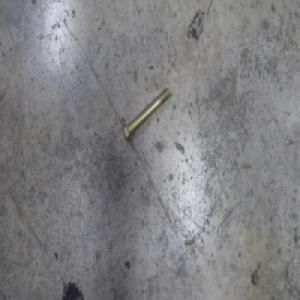Bolt: (123, 85, 173, 143)
